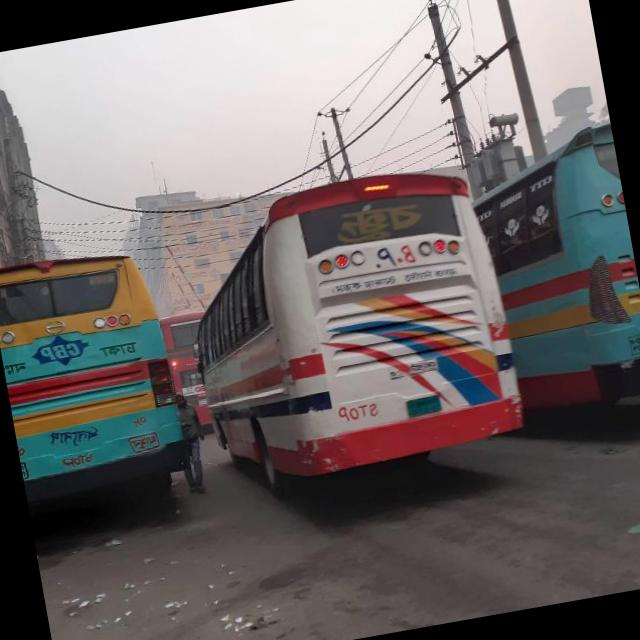bus: (173, 154, 530, 492), (465, 123, 640, 421), (0, 240, 189, 499), (162, 310, 222, 430)
